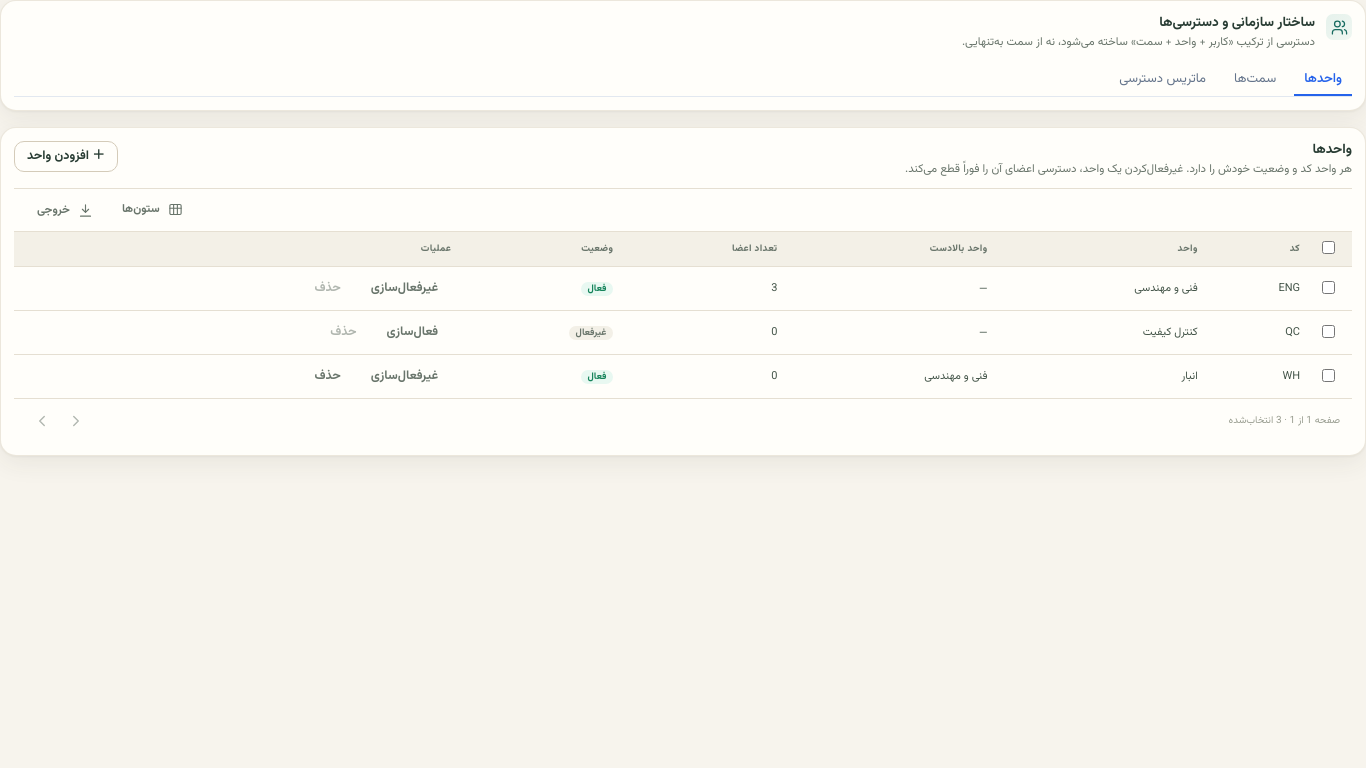
Test: organisation structure page — positions and postings › explains that a new position starts with no authority
Check: the text "ENG" is shown, box x1=1207 y1=267 x2=1309 y2=311
Step 1. Click the tab "سمت‌ها" → (1255, 80), box x1=1224 y1=64 x2=1286 y2=96
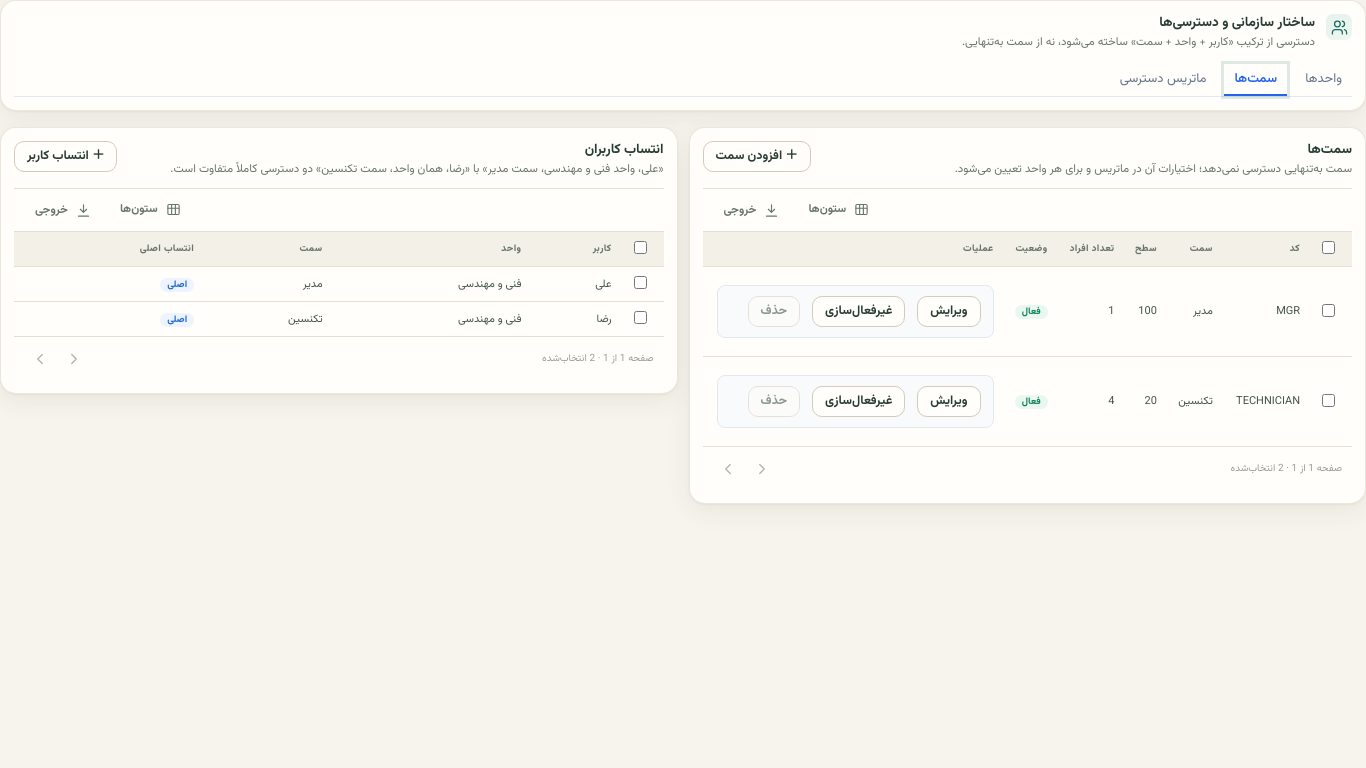
Step 2. Click the button "＋ افزودن سمت" → (757, 157), box x1=702 y1=141 x2=811 y2=172
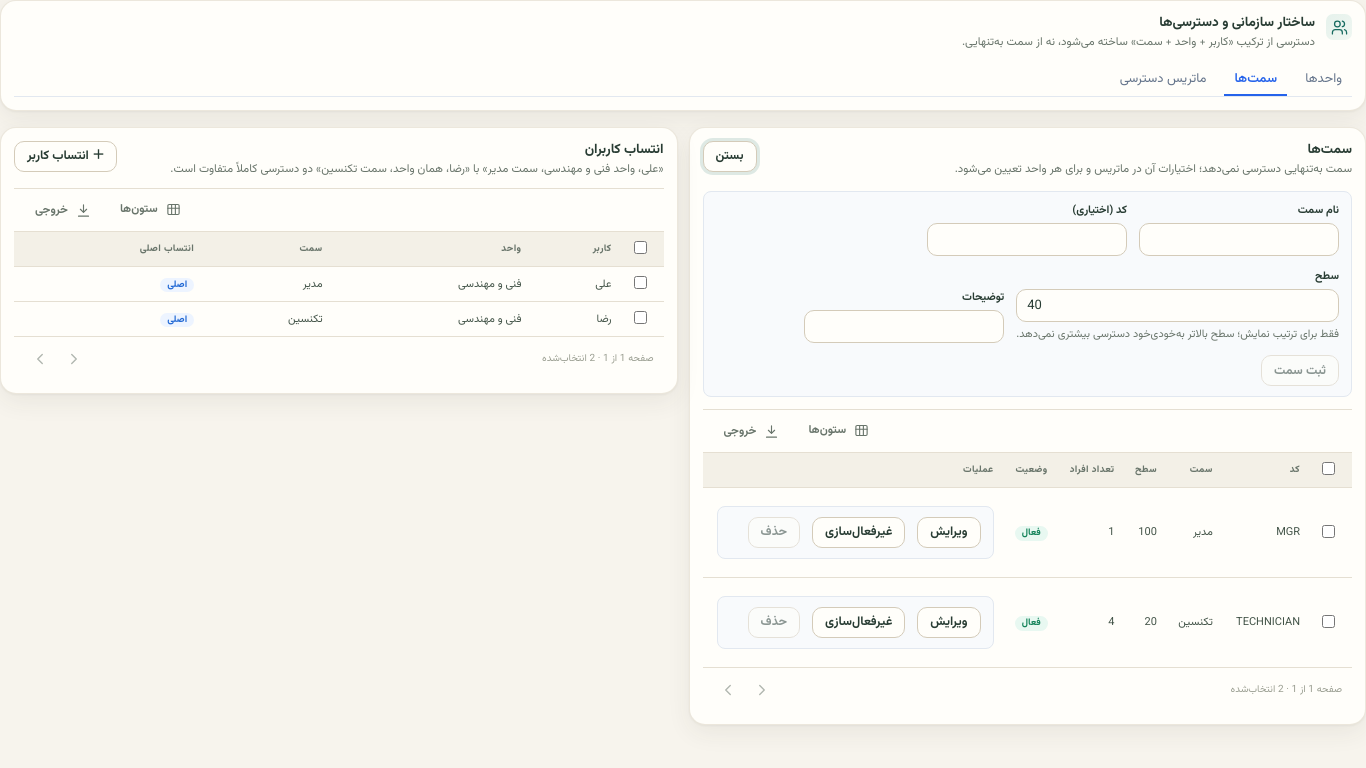
Step 3. Type "سرپرست برق" into the field labelled "نام سمت" → (1239, 240), box x1=1139 y1=223 x2=1339 y2=256
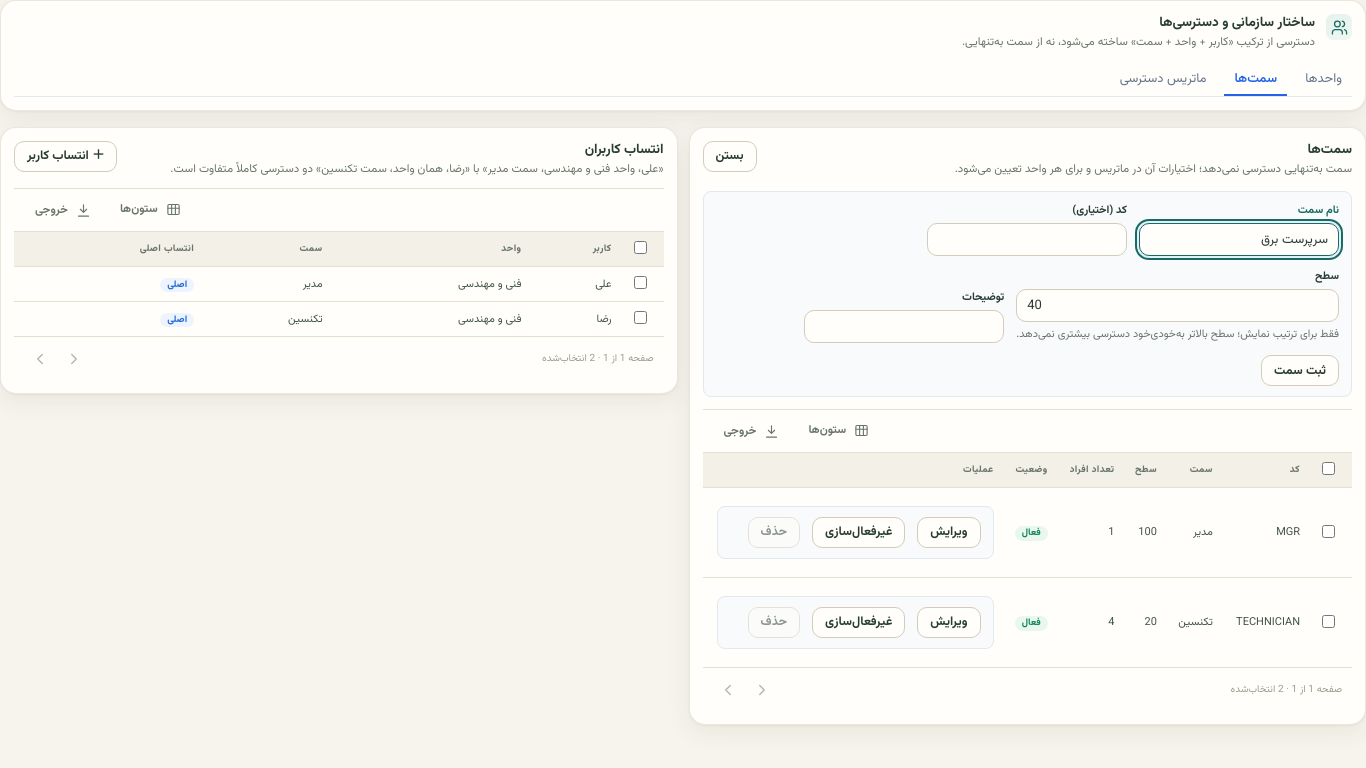
Step 4. Click the button "ثبت سمت" → (1300, 371), box x1=1261 y1=355 x2=1339 y2=386
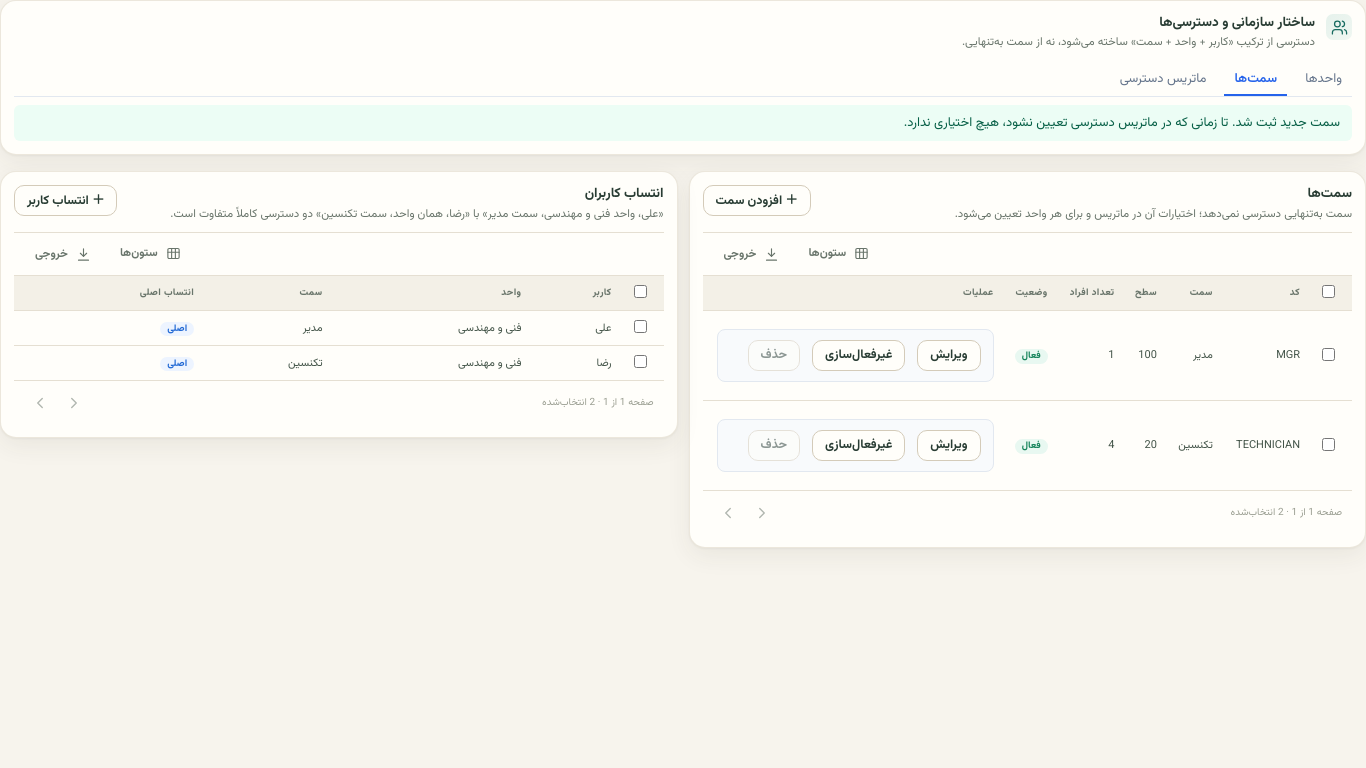
Check: the text "تا زمانی که در ماتریس دسترسی تعیین نشود، هیچ اختیاری ندارد" is shown, box x1=904 y1=113 x2=1340 y2=133
